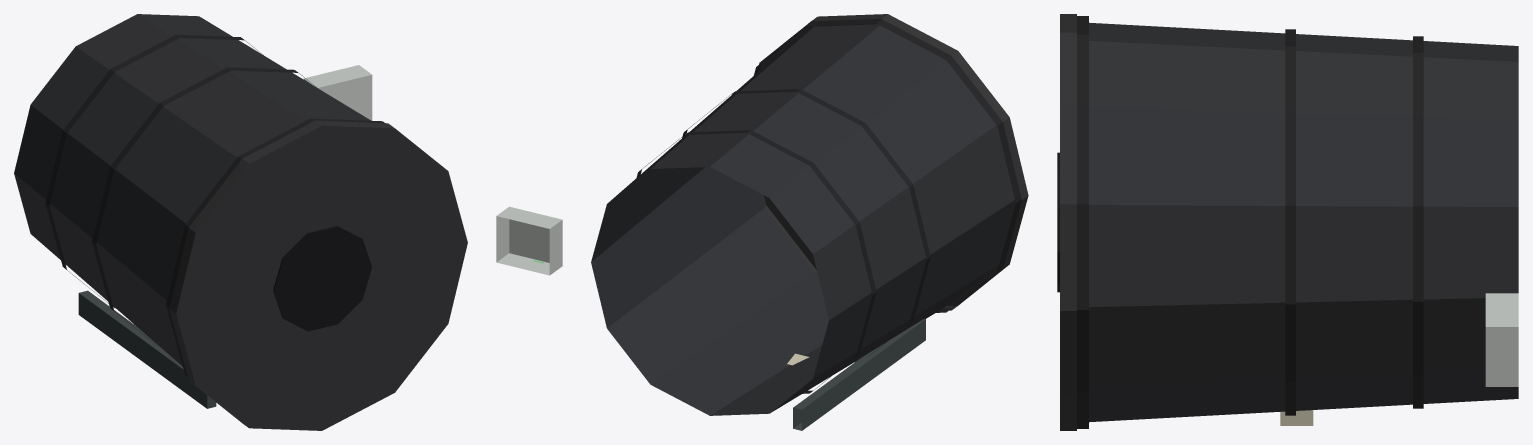
The model's file is a_xldwc.obj.
3 renders of one model, left to right at view 1: azimuth 30°, elevation 25°; view 2: azimuth 150°, elevation 25°; view 3: azimuth 270°, elevation 25°, orthographic. The views are drawn at different scales.
Size of the model in its own units: 0.796 by 0.632 by 0.6968.
1 material, 1 textured.
